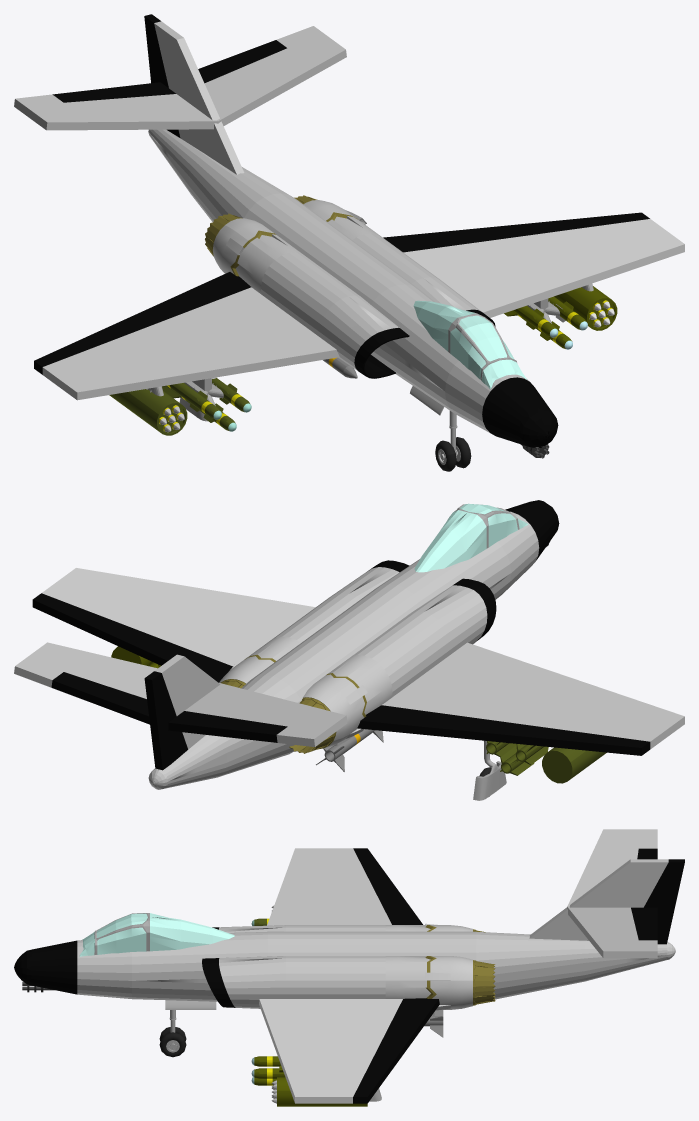
3 renders of one model, top to bottom at view 1: azimuth 30°, elevation 25°; view 2: azimuth 150°, elevation 25°; view 3: azimuth 270°, elevation 25°, orthographic. The views are drawn at different scales.
Visible parts, largest first — view 1: Cylinder.057_61, Mesh_106_6, Mesh_134_1, Mesh_41_2, Mesh_106_2, Control Surface_80, Mesh_134_3, Mesh_106_1, Mesh_134_2, Control Surface_46, Door_Left_95, Control Surface_40 (+1 smaller); view 2: Cylinder.057_61, Mesh_106_6, Mesh_134_1, Control Surface_80, Mesh_41_2, Mesh_106_1, Mesh_106_2, Control Surface_46, Control Surface_76, Control Surface_40, Mesh_134_2, UpperArm_81; view 3: Cylinder.057_61, Mesh_134_1, Mesh_106_6, Mesh_41_2, Mesh_134_2, Control Surface_76, Control Surface_40, Mesh_134_3, Door_Left_95, Control Surface_80, Control Surface_46, Mesh_106_1 (+1 smaller).
Boxes of the visible parts, left/top/right/bottom form: Cylinder.057_61: left=14, top=21, right=558, bottom=458; Mesh_106_6: left=42, top=287, right=339, bottom=400; Mesh_134_1: left=403, top=219, right=684, bottom=317; Mesh_41_2: left=413, top=300, right=527, bottom=388; Mesh_106_2: left=109, top=377, right=249, bottom=435; Control Surface_80: left=52, top=40, right=286, bottom=102; Mesh_134_3: left=504, top=286, right=617, bottom=348; Mesh_106_1: left=134, top=272, right=251, bottom=326; Mesh_134_2: left=383, top=226, right=512, bottom=252; Control Surface_46: left=34, top=315, right=148, bottom=374; Door_Left_95: left=410, top=386, right=471, bottom=471; Control Surface_40: left=499, top=212, right=649, bottom=237; Cylinder.057_61: left=14, top=500, right=559, bottom=789; Mesh_106_6: left=381, top=642, right=684, bottom=749; Mesh_134_1: left=41, top=568, right=315, bottom=666; Control Surface_80: left=51, top=672, right=287, bottom=742; Mesh_41_2: left=414, top=503, right=528, bottom=572; Mesh_106_1: left=357, top=705, right=512, bottom=741; Mesh_106_2: left=486, top=741, right=606, bottom=783; Control Surface_46: left=498, top=723, right=650, bottom=755; Control Surface_76: left=144, top=671, right=187, bottom=770; Control Surface_40: left=32, top=593, right=147, bottom=652; Mesh_134_2: left=133, top=634, right=232, bottom=682; UpperArm_81: left=473, top=740, right=506, bottom=800; Cylinder.057_61: left=14, top=829, right=675, bottom=1037; Mesh_134_1: left=259, top=999, right=402, bottom=1103; Mesh_106_6: left=267, top=848, right=391, bottom=925; Mesh_41_2: left=79, top=913, right=234, bottom=956; Mesh_134_2: left=379, top=998, right=439, bottom=1053; Control Surface_76: left=644, top=859, right=684, bottom=944; Control Surface_40: left=353, top=1047, right=403, bottom=1103; Mesh_134_3: left=254, top=1056, right=367, bottom=1106; Door_Left_95: left=159, top=1000, right=216, bottom=1057; Control Surface_80: left=631, top=848, right=657, bottom=940; Control Surface_46: left=353, top=848, right=403, bottom=897; Mesh_106_1: left=378, top=898, right=422, bottom=924.
Size of the model in its own units: 8.12 by 2.94 by 9.25.
